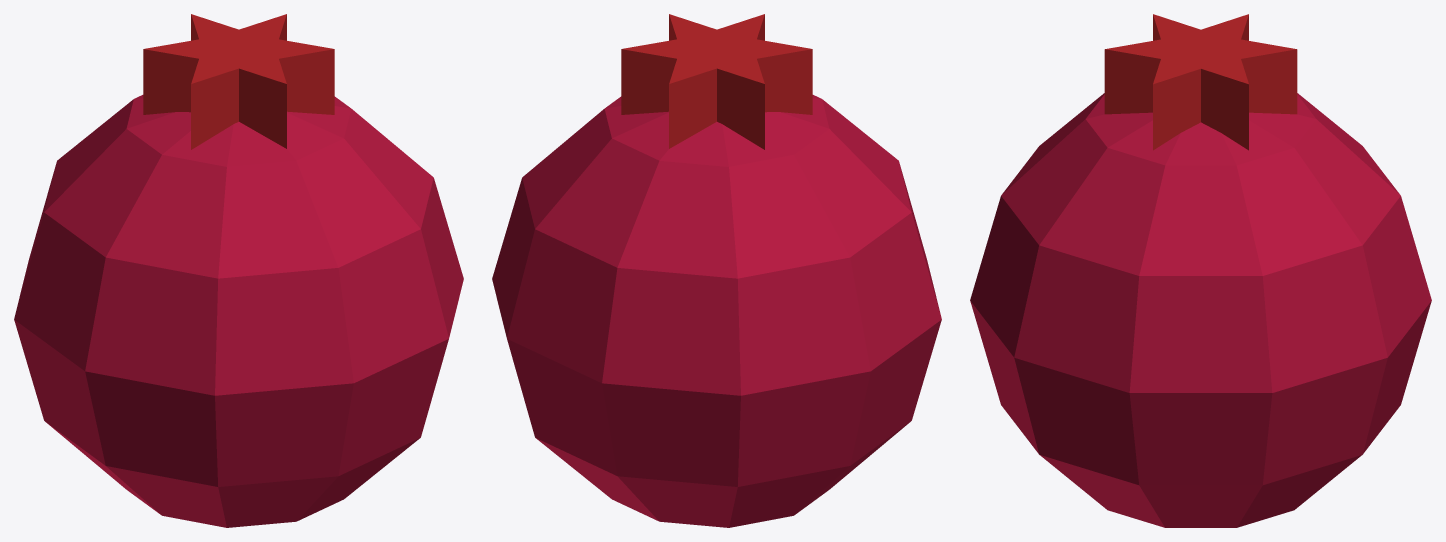
File: Pomegranate.fbx
3 renders of one model, left to right at view 1: azimuth 30°, elevation 25°; view 2: azimuth 150°, elevation 25°; view 3: azimuth 270°, elevation 25°, orthographic.
Visible parts, largest first — view 1: Pomegranate; view 2: Pomegranate; view 3: Pomegranate.
Part boxes in pixels (bbox=[...]): Pomegranate: bbox=[14, 14, 463, 527]; Pomegranate: bbox=[492, 14, 941, 527]; Pomegranate: bbox=[970, 14, 1431, 527].
Bounding box in the file's own units: 1.14 × 1.32 × 1.2.
1 material, 1 textured.
